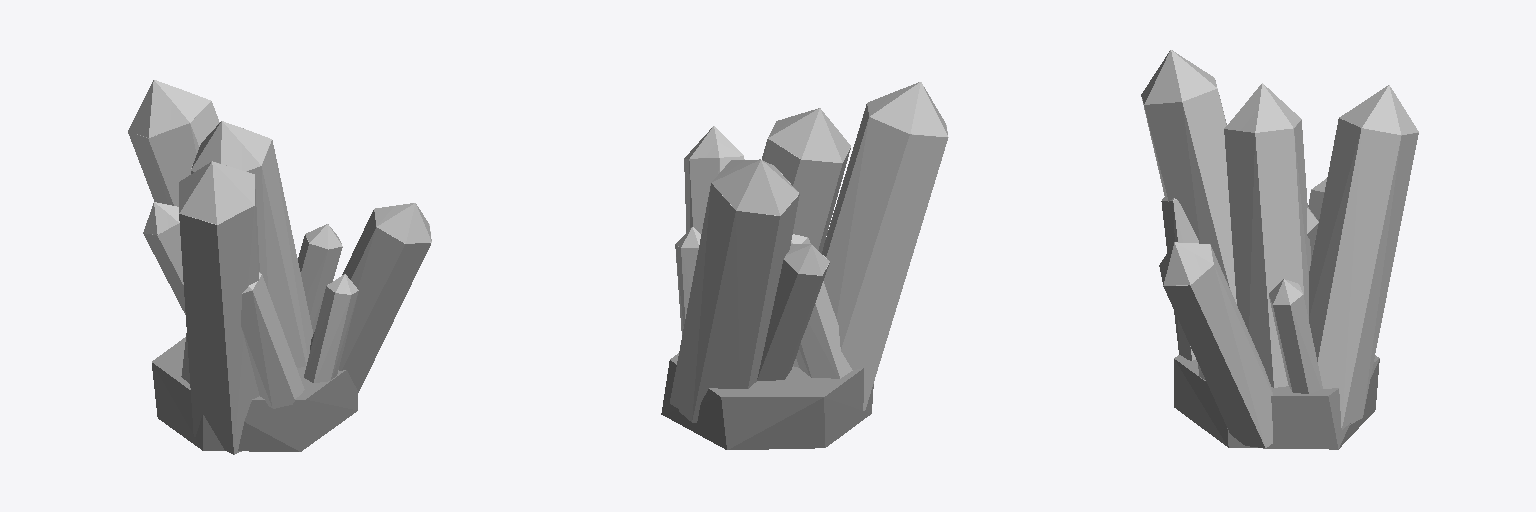
File: solis_crystals3.obj
3 renders of one model, left to right at view 1: azimuth 30°, elevation 25°; view 2: azimuth 150°, elevation 25°; view 3: azimuth 270°, elevation 25°, orthographic.
Visible parts, largest first — view 1: Cylinder.003_Cylinder.006, Cylinder.029_Cylinder.030, Cylinder.005_Cylinder.008, Cylinder.009, Cylinder.002_Cylinder.005, Cylinder.000_Cylinder.003, Cone.004_Cone.006, Cylinder.027_Cylinder.028, Cone.000_Cone.003, Cone.008_Cone.002, Cylinder.001_Cylinder.004, Cone.006_Cone.008 (+3 smaller); view 2: Cylinder.003_Cylinder.006, Cylinder.000_Cylinder.003, Cylinder.029_Cylinder.030, Cylinder.004_Cylinder.007, Cylinder.009, Cone.000_Cone.003, Cylinder.006_Cylinder.000, Cone.008_Cone.002, Cone.004_Cone.006, Cylinder.005_Cylinder.008, Cylinder.001_Cylinder.004, Cone.005_Cone.007 (+1 smaller); view 3: Cylinder.000_Cylinder.003, Cylinder.009, Cylinder.005_Cylinder.008, Cylinder.003_Cylinder.006, Cylinder.029_Cylinder.030, Cylinder.001_Cylinder.004, Cone.004_Cone.006, Cone.008_Cone.002, Cone.000_Cone.003, Cone.006_Cone.008, Cylinder.002_Cylinder.005, Cone.002_Cone.004.
Part boxes in pixels (x1,y1,x2,y2): Cylinder.003_Cylinder.006: (179, 188, 259, 454); Cylinder.029_Cylinder.030: (152, 337, 357, 451); Cylinder.005_Cylinder.008: (310, 210, 431, 392); Cylinder.009: (191, 140, 312, 367); Cylinder.002_Cylinder.005: (241, 275, 304, 408); Cylinder.000_Cylinder.003: (128, 101, 219, 206); Cone.004_Cone.006: (179, 161, 254, 224); Cylinder.027_Cylinder.028: (304, 284, 358, 382); Cone.000_Cone.003: (128, 80, 210, 137); Cone.008_Cone.002: (191, 121, 271, 171); Cylinder.001_Cylinder.004: (298, 235, 342, 333); Cone.006_Cone.008: (374, 203, 431, 243); Cylinder.003_Cylinder.006: (793, 104, 947, 410); Cylinder.000_Cylinder.003: (670, 173, 799, 422); Cylinder.029_Cylinder.030: (661, 353, 873, 449); Cylinder.004_Cylinder.007: (757, 255, 829, 380); Cylinder.009: (762, 139, 850, 253); Cone.000_Cone.003: (711, 159, 798, 215); Cylinder.006_Cylinder.000: (796, 237, 852, 378); Cone.008_Cone.002: (768, 108, 850, 162); Cone.004_Cone.006: (867, 82, 948, 137); Cylinder.005_Cylinder.008: (684, 156, 744, 233); Cylinder.001_Cylinder.004: (675, 245, 698, 334); Cone.005_Cone.007: (784, 244, 829, 275); Cylinder.000_Cylinder.003: (1309, 118, 1418, 429); Cylinder.009: (1224, 120, 1310, 387); Cylinder.005_Cylinder.008: (1163, 244, 1272, 447); Cylinder.003_Cylinder.006: (1142, 80, 1236, 303); Cylinder.029_Cylinder.030: (1174, 355, 1379, 449); Cylinder.001_Cylinder.004: (1269, 295, 1322, 393); Cone.004_Cone.006: (1141, 50, 1217, 104); Cone.008_Cone.002: (1224, 83, 1301, 132); Cone.000_Cone.003: (1339, 85, 1418, 134); Cone.006_Cone.008: (1159, 242, 1213, 285); Cylinder.002_Cylinder.005: (1161, 200, 1198, 360); Cone.002_Cone.004: (1269, 279, 1302, 304).
Bounding box in the file's own units: 0.8669 × 1.02 × 0.811.